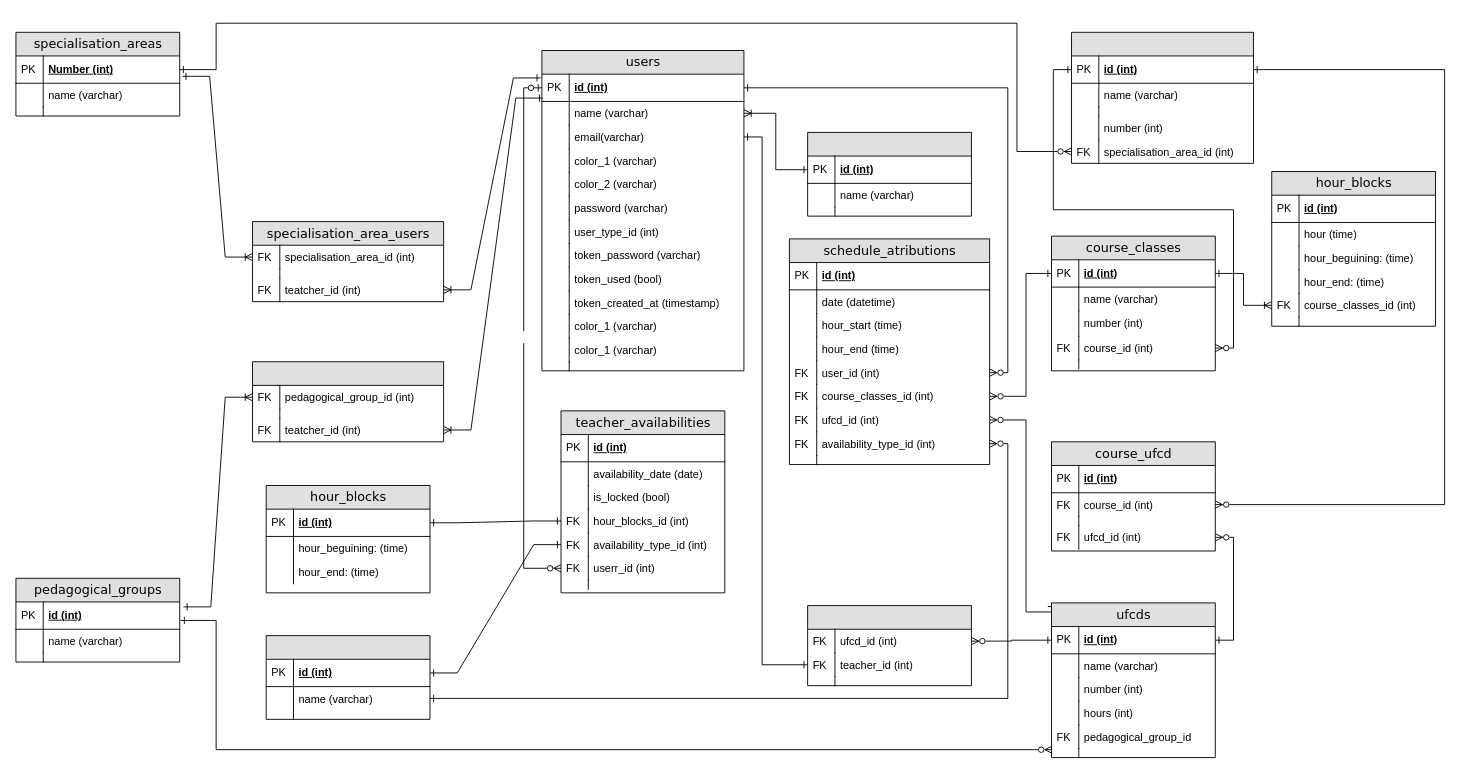
The diagram is 1469 pixels wide and 774 high, and some of its shapes have lost their labels. The shapes that lost their labels are listed below. From the top down, each one's box as (x1, y1, x2, y2) in pixels, then its label:
(1071, 31, 1254, 163): courses
(807, 131, 971, 216): user_types
(252, 361, 444, 442): pedagogical_group_users
(807, 605, 971, 686): user_ufcds
(265, 635, 430, 719): availability_types
